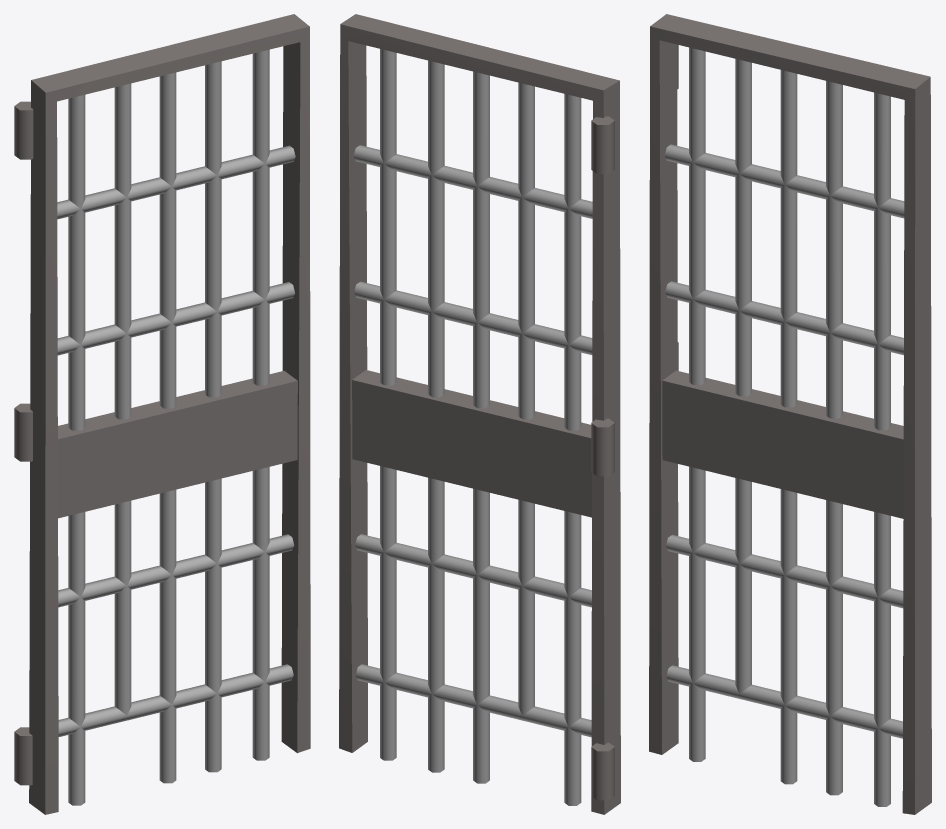
File: SM_Door_A1.fbx
The picture shows the model from 3 angles, left to right: view 1: azimuth 30°, elevation 25°; view 2: azimuth 150°, elevation 25°; view 3: azimuth 330°, elevation 25°; orthographic projection.
Parts seen in each view (by area): view 1: SM_Door_A1; view 2: SM_Door_A1; view 3: SM_Door_A1.
Boxes of the visible parts, x1=… form: SM_Door_A1: x1=14, y1=14, x2=310, y2=814; SM_Door_A1: x1=339, y1=14, x2=620, y2=814; SM_Door_A1: x1=649, y1=14, x2=931, y2=814.
Bounding box in the file's own units: 115 × 292 × 18.2.
Materials: 1 (1 with a texture image).
